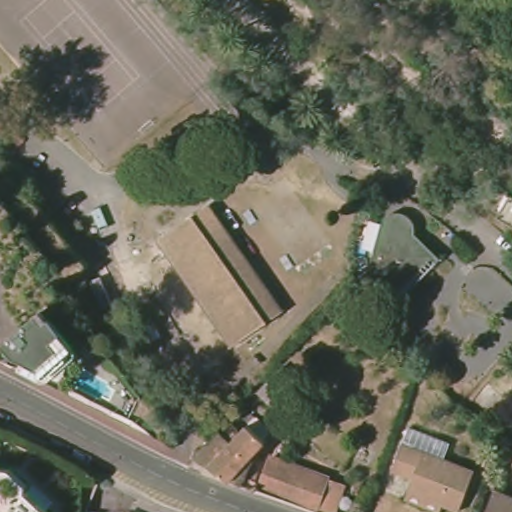pool: (68, 368, 116, 404)
